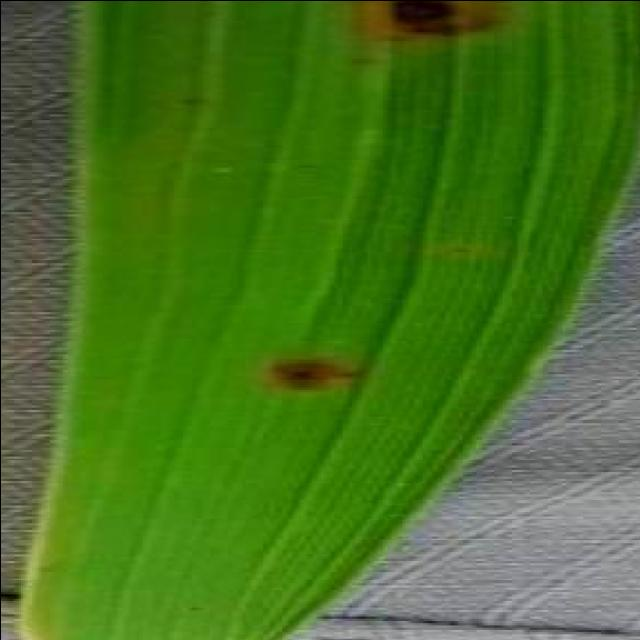Brown_Spot: (251, 349, 373, 409), (418, 11, 500, 51), (371, 0, 460, 34), (169, 89, 215, 118), (284, 153, 324, 180), (434, 238, 474, 264), (175, 600, 209, 624), (340, 53, 380, 71), (373, 31, 411, 49), (27, 560, 58, 580)
